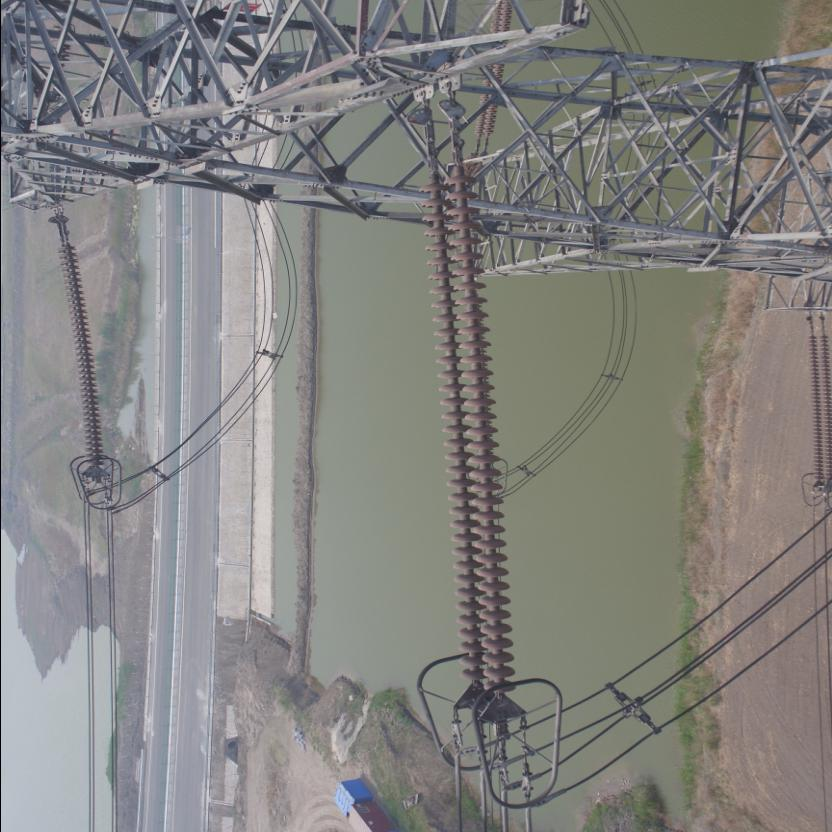insulator: (414, 139, 515, 704), (50, 231, 103, 473)
